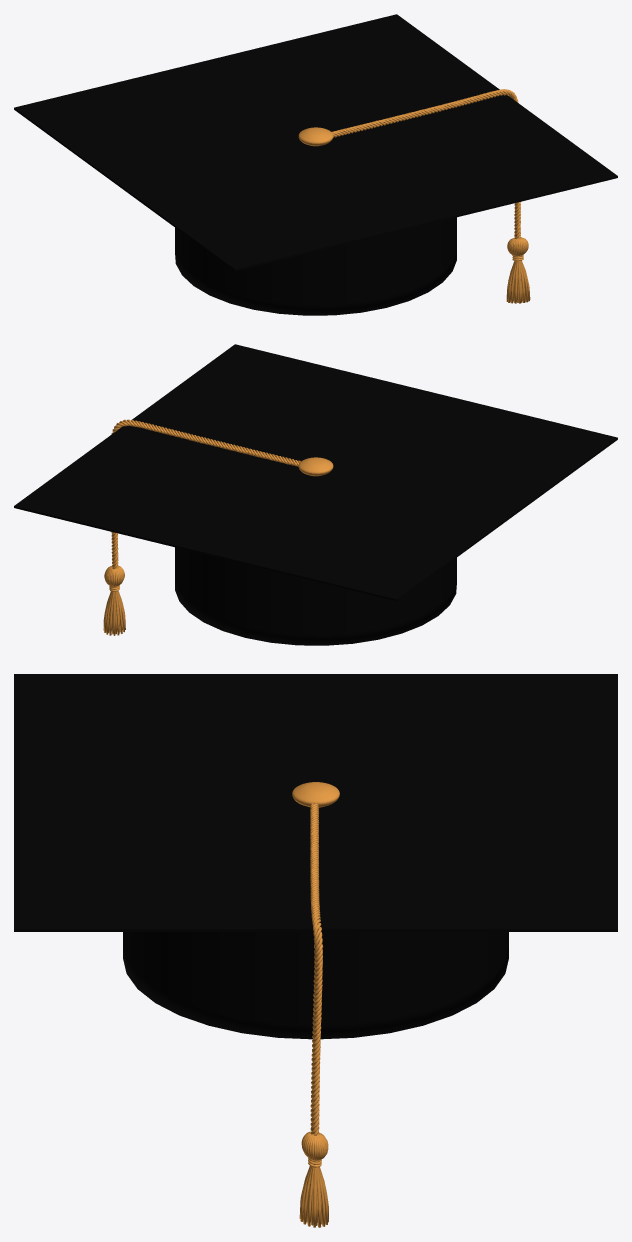
Rendered from hat.glb.
3 views of the same model, one above another, from view 1: azimuth 30°, elevation 25°; view 2: azimuth 150°, elevation 25°; view 3: azimuth 270°, elevation 25° (orthographic). The views are drawn at different scales.
Parts seen in each view (by area): view 1: Plane, Cap Cylinder, Rope, Tassels, Button; view 2: Plane, Cap Cylinder, Rope, Tassels, Button; view 3: Plane, Cap Cylinder, Rope, Tassels, Button.
Part boxes in pixels (left/top/right/bottom): Plane: left=14, top=14, right=617, bottom=271; Cap Cylinder: left=175, top=217, right=456, bottom=315; Rope: left=332, top=89, right=520, bottom=238; Tassels: left=506, top=237, right=530, bottom=303; Button: left=298, top=127, right=333, bottom=146; Plane: left=14, top=344, right=617, bottom=601; Cap Cylinder: left=175, top=547, right=456, bottom=645; Rope: left=111, top=419, right=300, bottom=568; Tassels: left=103, top=565, right=125, bottom=635; Button: left=298, top=457, right=333, bottom=476; Plane: left=14, top=674, right=617, bottom=931; Cap Cylinder: left=123, top=932, right=508, bottom=1039; Rope: left=310, top=803, right=323, bottom=1135; Tassels: left=299, top=1131, right=328, bottom=1227; Button: left=292, top=782, right=339, bottom=807.
Size of the model in its own units: 1.72 by 0.9016 by 1.64.
